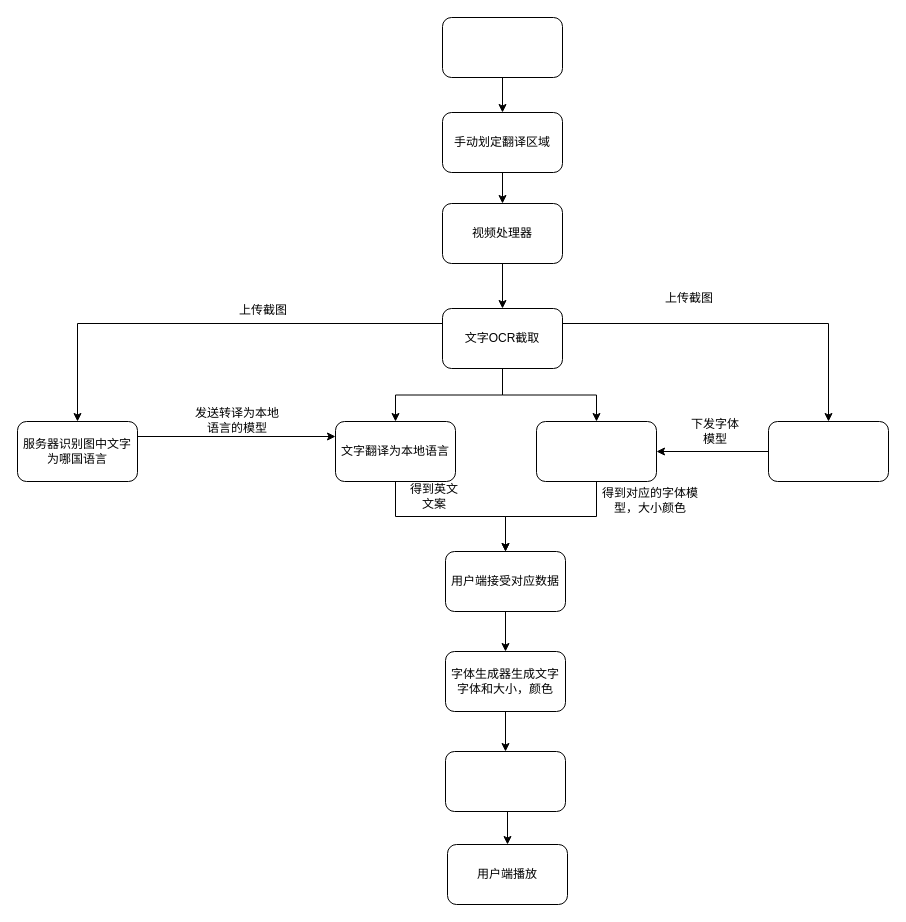
Some shapes in this 906 by 922 pixel diagram are drawn without their labels. Each missing label, with the centre of its shape:
"字体识别" goes at [596,451].
"替换视频中对应区域的文本" goes at [505,781].
"服务器识别文字的字体" goes at [828,451].
"用户端" goes at [502,47].
